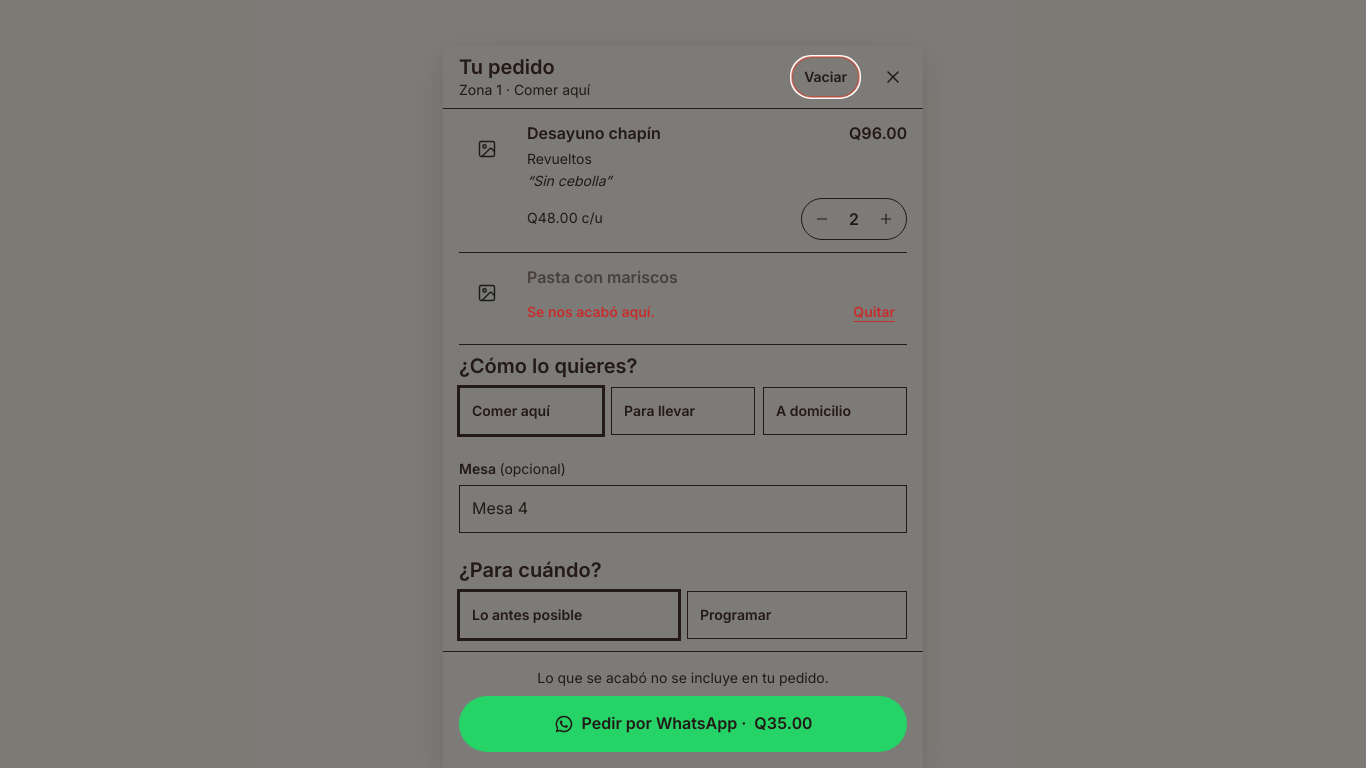
Test case: <OrderSheet /> › a domicilio: dirección, envío y mínimo
What coordinates should you click on to do the following:
click the radio button labelled "A domicilio"
I would click on:
 (835, 411)
Its box is [763,387,907,435].
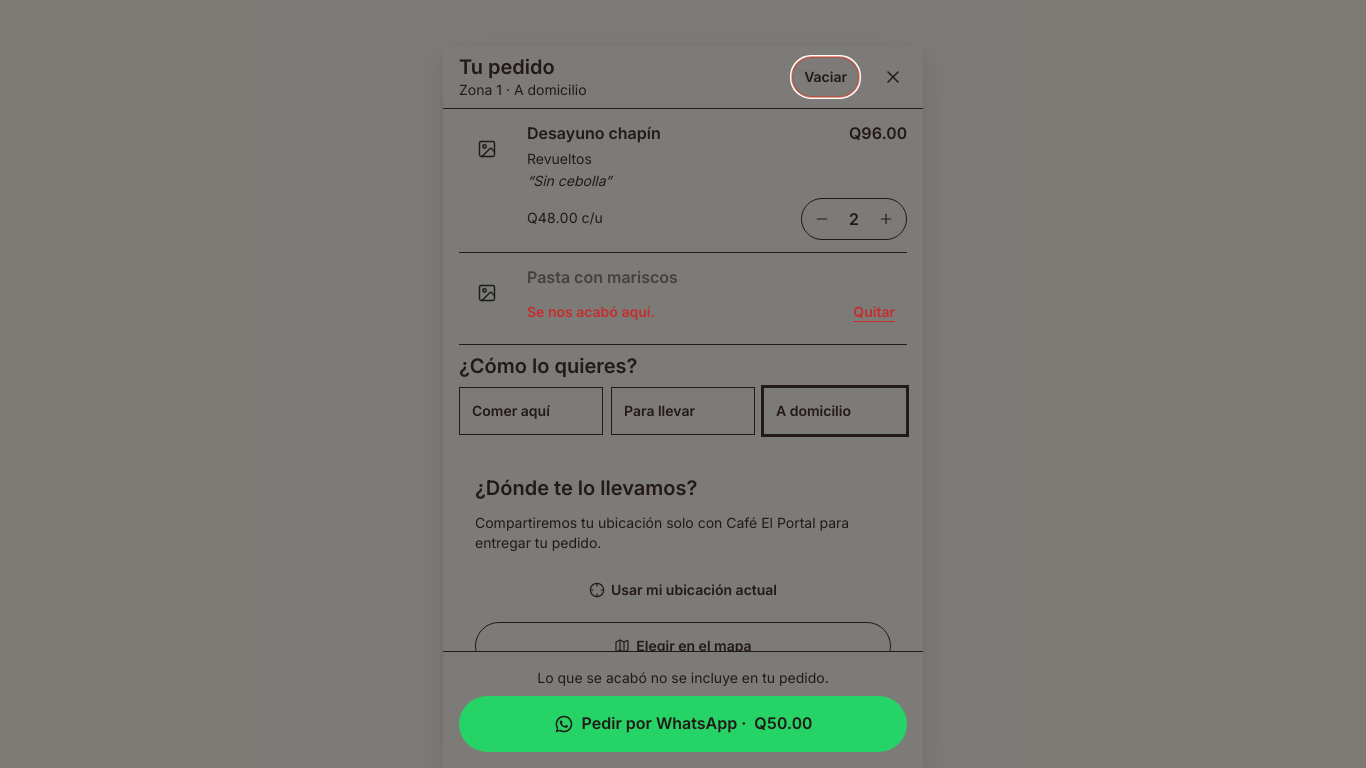
Expected: the heading "¿Dónde te lo llevamos?" is shown, [475,476,697,500]
What coordinates should you click on to do the following:
click the button "Pedir por WhatsApp · Q50.00"
I would click on:
 (683, 724)
Its box is [459,696,907,752].
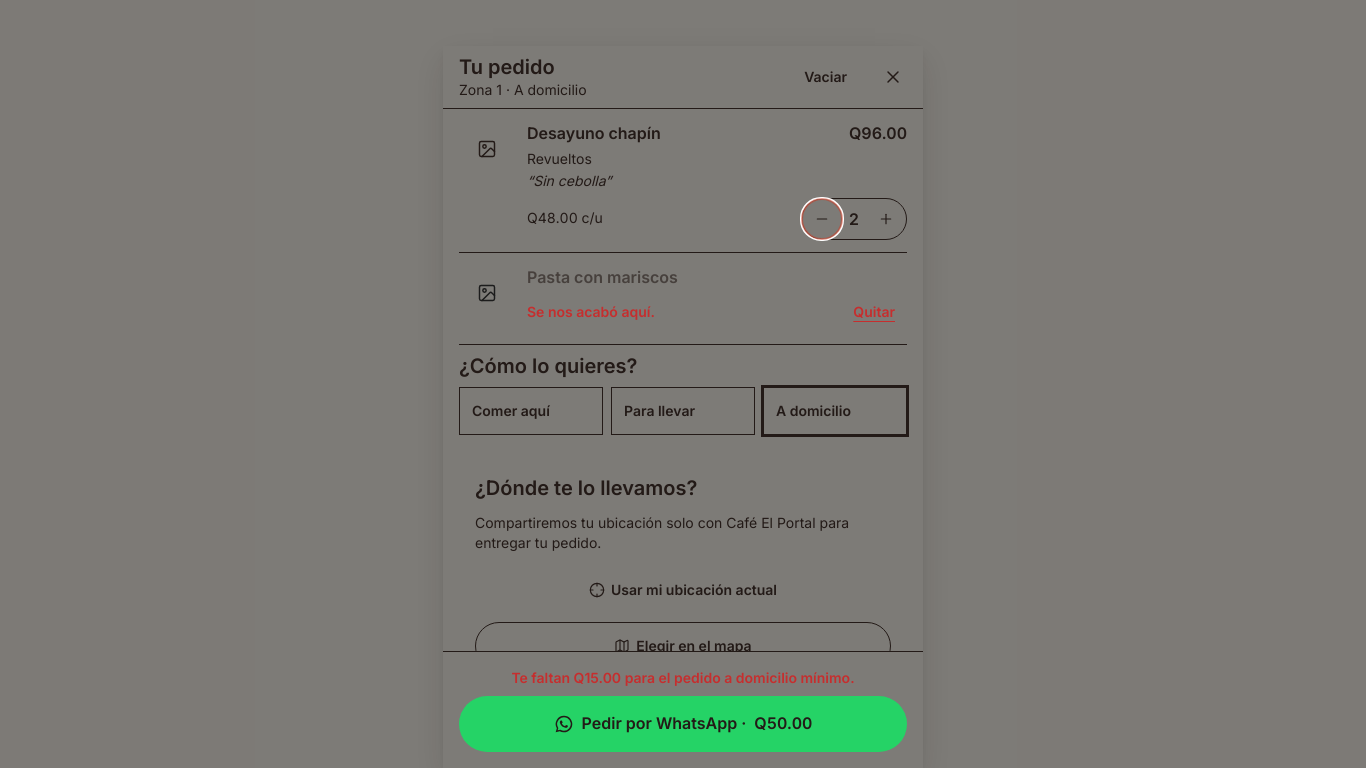
Expected: the button "Pedir por WhatsApp · Q50.00" is shown, [459,696,907,752]
Expected: the text "Te faltan Q15.00 para el pedido a domicilio mínimo." is shown, [511,669,855,686]
